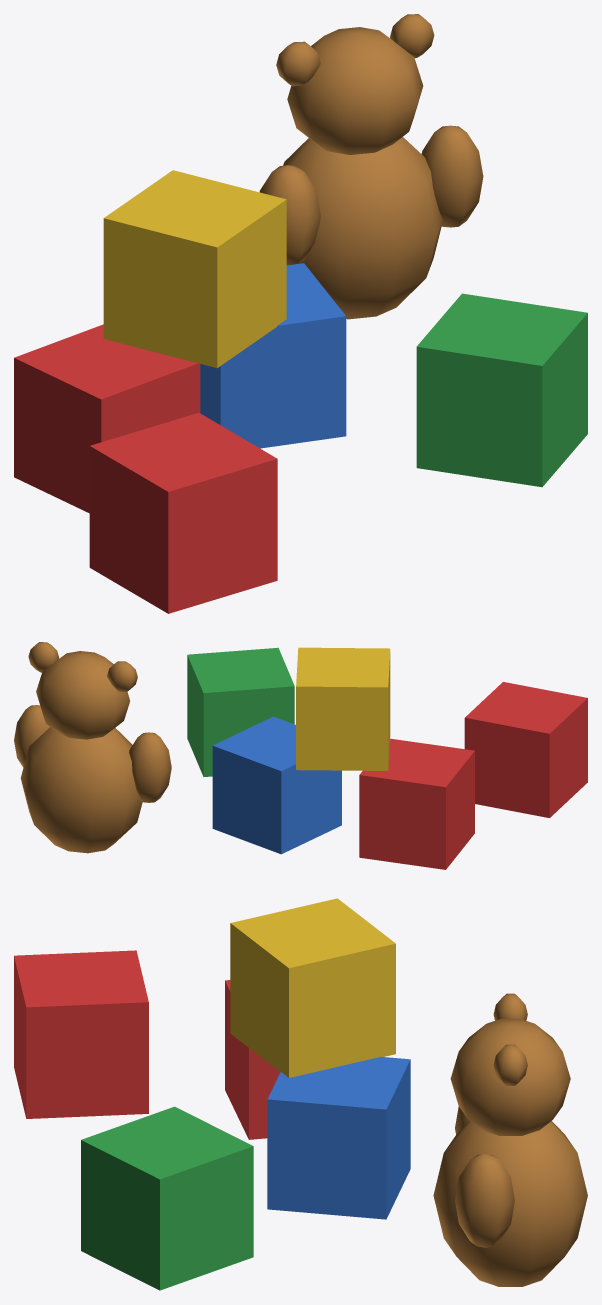
File: resource_toys.fbx
3 views of the same model, one above another, from view 1: azimuth 30°, elevation 25°; view 2: azimuth 150°, elevation 25°; view 3: azimuth 270°, elevation 25° (orthographic). The views are drawn at different scales.
Visible parts, largest first — view 1: resource_toys_toy#d83a3a_00, resource_toys_teddy_04, resource_toys_toy#e8c030_02, resource_toys_toy#3aa850_03, resource_toys_toy#3a7ad8_01; view 2: resource_toys_toy#d83a3a_00, resource_toys_teddy_04, resource_toys_toy#3a7ad8_01, resource_toys_toy#e8c030_02, resource_toys_toy#3aa850_03; view 3: resource_toys_teddy_04, resource_toys_toy#3aa850_03, resource_toys_toy#d83a3a_00, resource_toys_toy#e8c030_02, resource_toys_toy#3a7ad8_01.
Boxes of the visible parts, <box> form: resource_toys_toy#d83a3a_00: <box>14,324,277,613</box>; resource_toys_teddy_04: <box>259,14,483,319</box>; resource_toys_toy#e8c030_02: <box>103,170,286,368</box>; resource_toys_toy#3aa850_03: <box>416,293,587,487</box>; resource_toys_toy#3a7ad8_01: <box>200,263,346,448</box>; resource_toys_toy#d83a3a_00: <box>359,682,587,869</box>; resource_toys_teddy_04: <box>14,642,171,853</box>; resource_toys_toy#3a7ad8_01: <box>212,716,341,854</box>; resource_toys_toy#e8c030_02: <box>296,647,390,770</box>; resource_toys_toy#3aa850_03: <box>187,647,294,776</box>; resource_toys_teddy_04: <box>433,993,587,1286</box>; resource_toys_toy#3aa850_03: <box>81,1106,253,1290</box>; resource_toys_toy#d83a3a_00: <box>14,950,280,1139</box>; resource_toys_toy#e8c030_02: <box>230,898,395,1077</box>; resource_toys_toy#3a7ad8_01: <box>267,1056,410,1219</box>.
Bounding box in the file's own units: 70.89 × 33.5 × 66.86.
